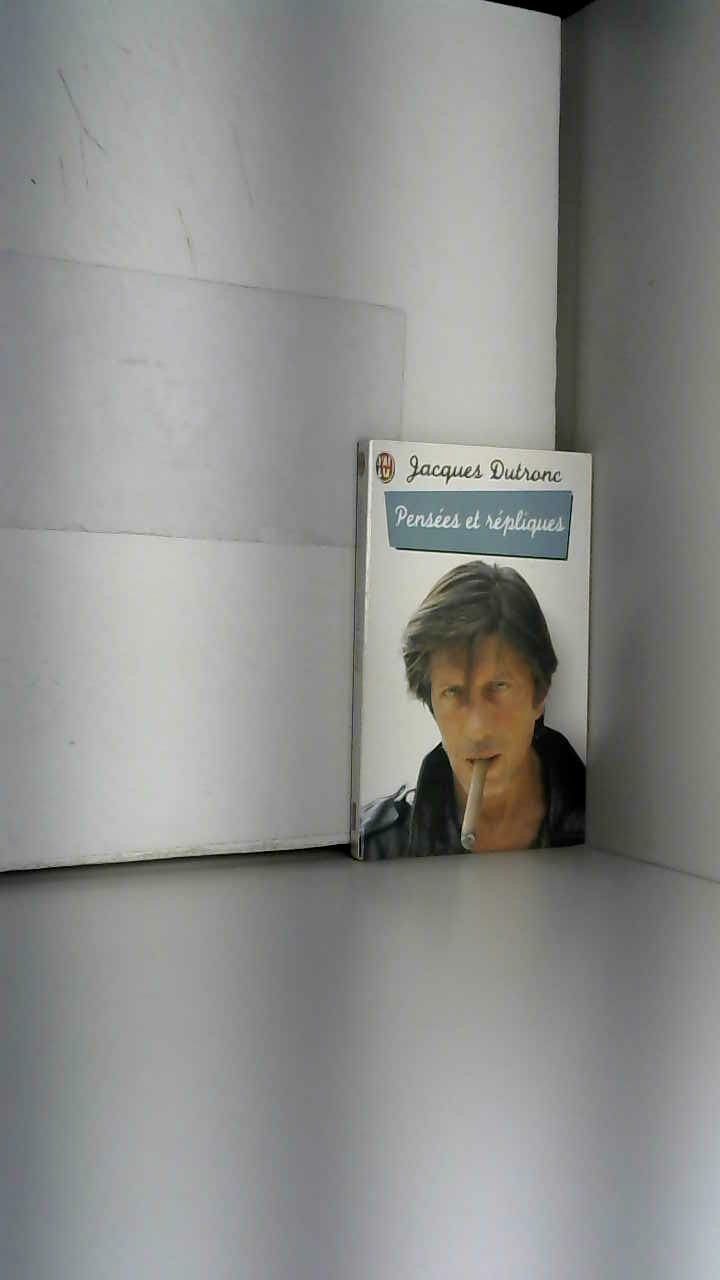book: (327, 397, 627, 897)
